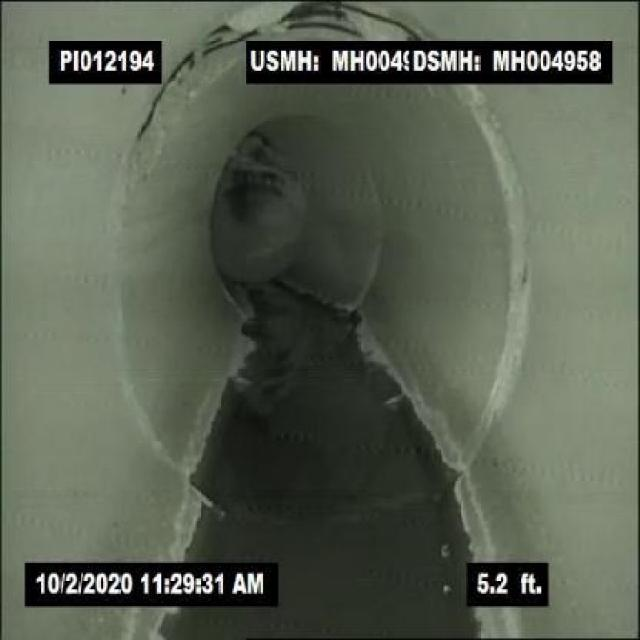Joint offset: (458, 96, 568, 522), (178, 1, 436, 37), (169, 34, 245, 146)
